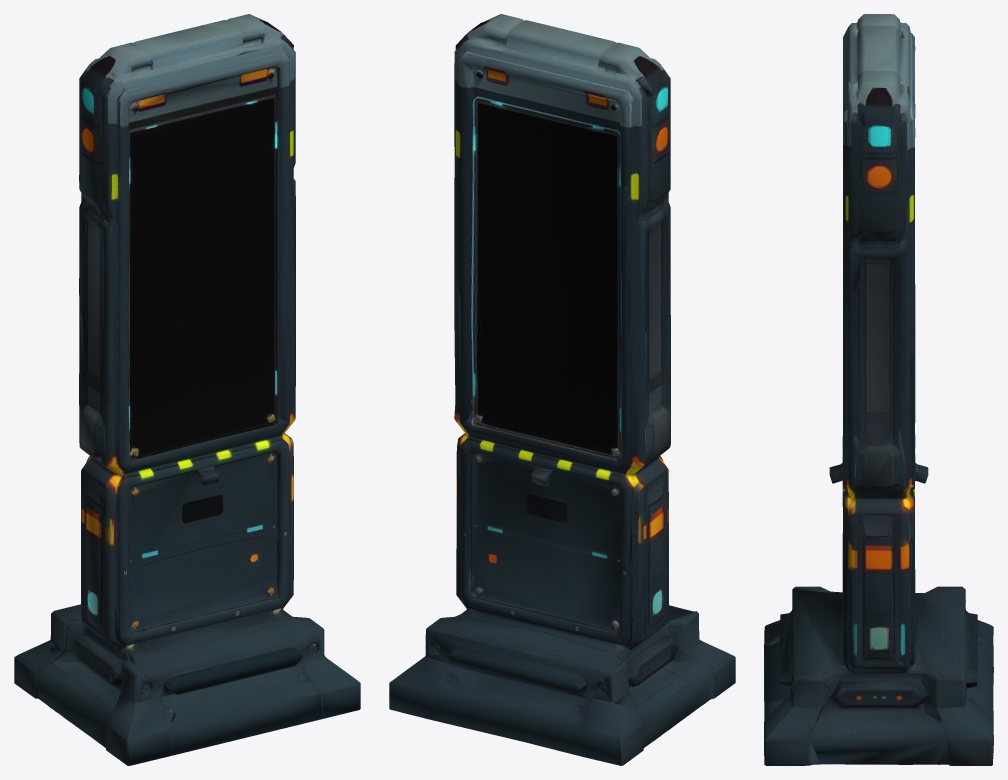
The model's file is leaderboard_kiosk.glb.
3 renders of one model, left to right at view 1: azimuth 30°, elevation 25°; view 2: azimuth 150°, elevation 25°; view 3: azimuth 270°, elevation 25°, orthographic.
Size of the model in its own units: 0.7055 by 1.9 by 0.598.
1 material, 1 textured.
